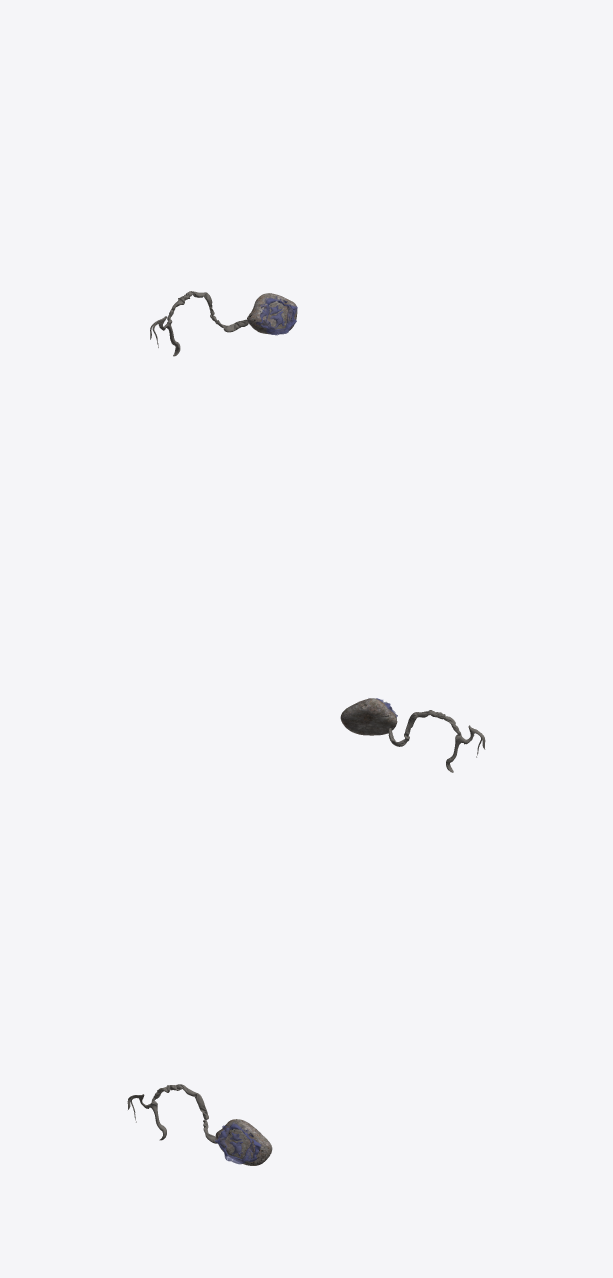
Rendered from info_btn-DwnFYA6o.glb.
3 views of the same model, one above another, from view 1: azimuth 30°, elevation 25°; view 2: azimuth 150°, elevation 25°; view 3: azimuth 330°, elevation 25° (orthographic).
Visible parts, largest first — view 1: body, mech; view 2: body; view 3: body, mech.
Part boxes in pixels (left/top/right/bottom): body: left=150, top=291, right=297, bottom=356; mech: left=256, top=296, right=297, bottom=335; body: left=340, top=698, right=485, bottom=772; body: left=127, top=1084, right=272, bottom=1165; mech: left=215, top=1122, right=261, bottom=1164.
Bounding box in the file's own units: 3.98 × 1.66 × 0.2968.
Materials: 4 (2 with a texture image).
